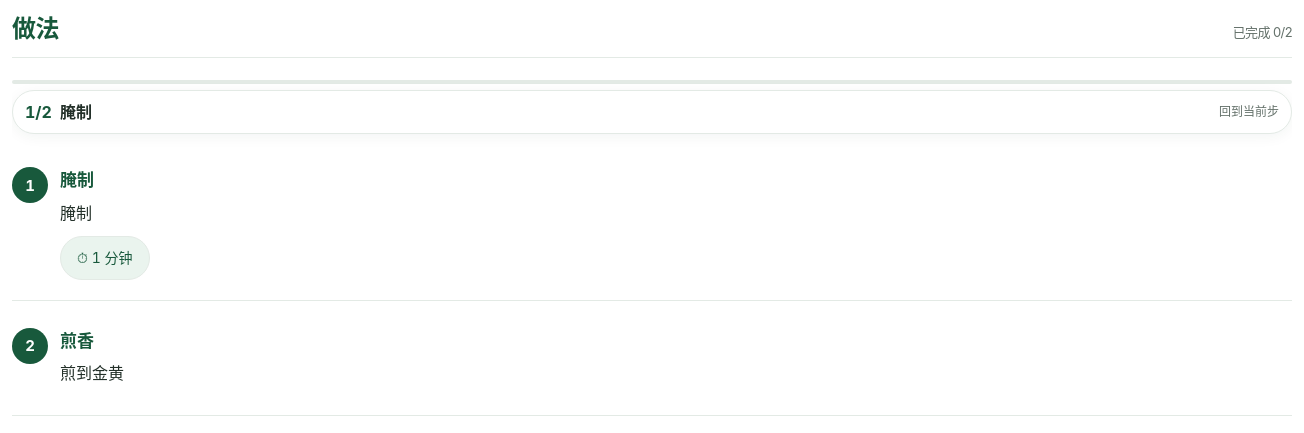
Test: StepList · 到点提醒 › 到点后提醒**保持到用户确认**，不会被自动清除（P1-7 回归）
Step 1. Click the button "⏱ 1 分钟" → {"x": 105, "y": 258}, box [60, 236, 150, 280]
Wait 121000 ms
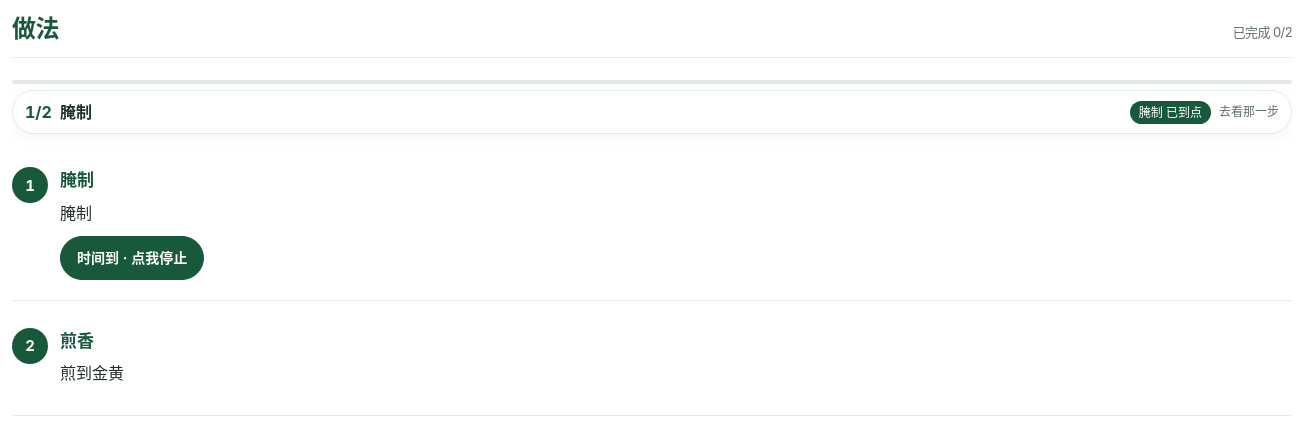
Expected: the button "时间到 · 点我停止" is shown, [60, 236, 204, 280]
